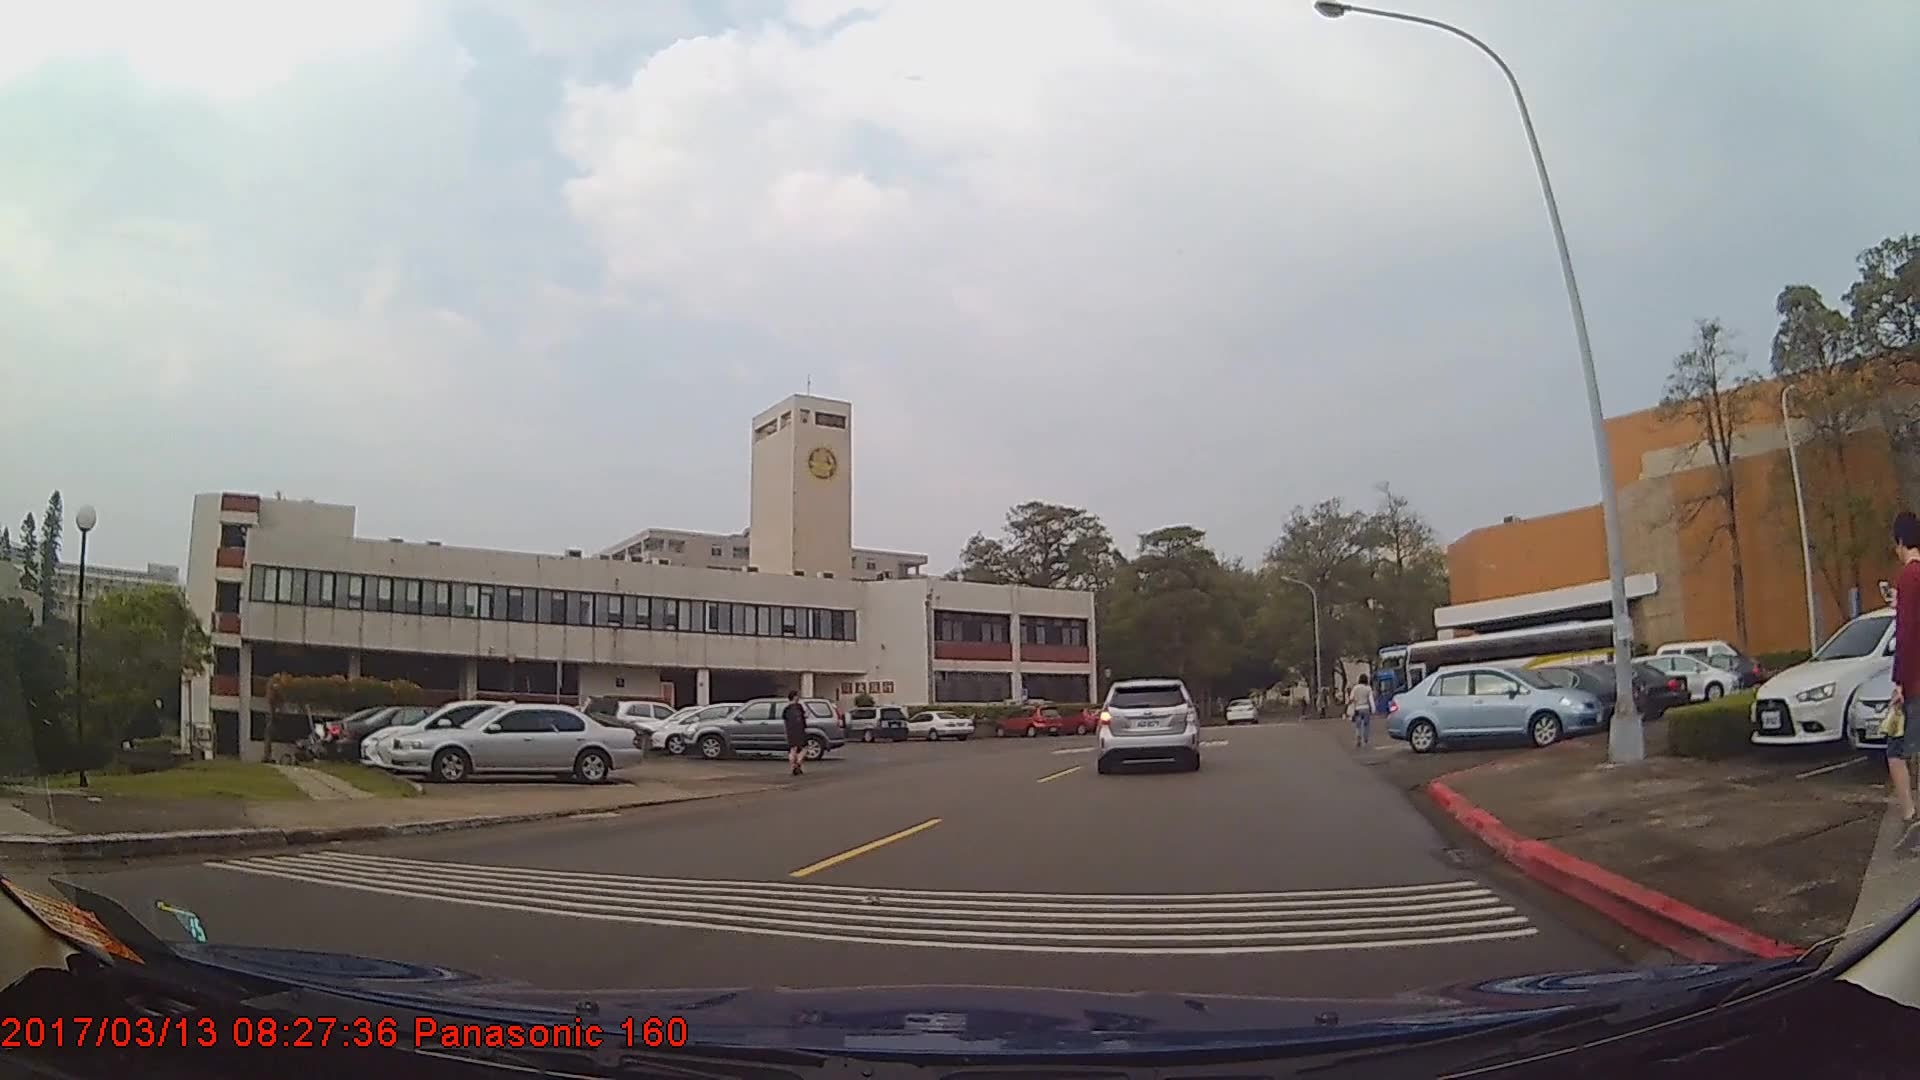pedestrian: (1875, 514, 1919, 865), (779, 691, 812, 777), (1348, 675, 1377, 748)
vehicle: (1746, 603, 1920, 744), (387, 701, 643, 782), (1385, 661, 1605, 752), (353, 697, 574, 773), (1456, 665, 1647, 730), (335, 703, 509, 766), (681, 697, 850, 762), (1097, 677, 1199, 774), (1526, 662, 1688, 717), (650, 700, 787, 755), (1624, 653, 1742, 703), (615, 700, 691, 742), (841, 705, 908, 744), (992, 704, 1063, 740), (901, 711, 972, 742), (1224, 697, 1259, 726)
